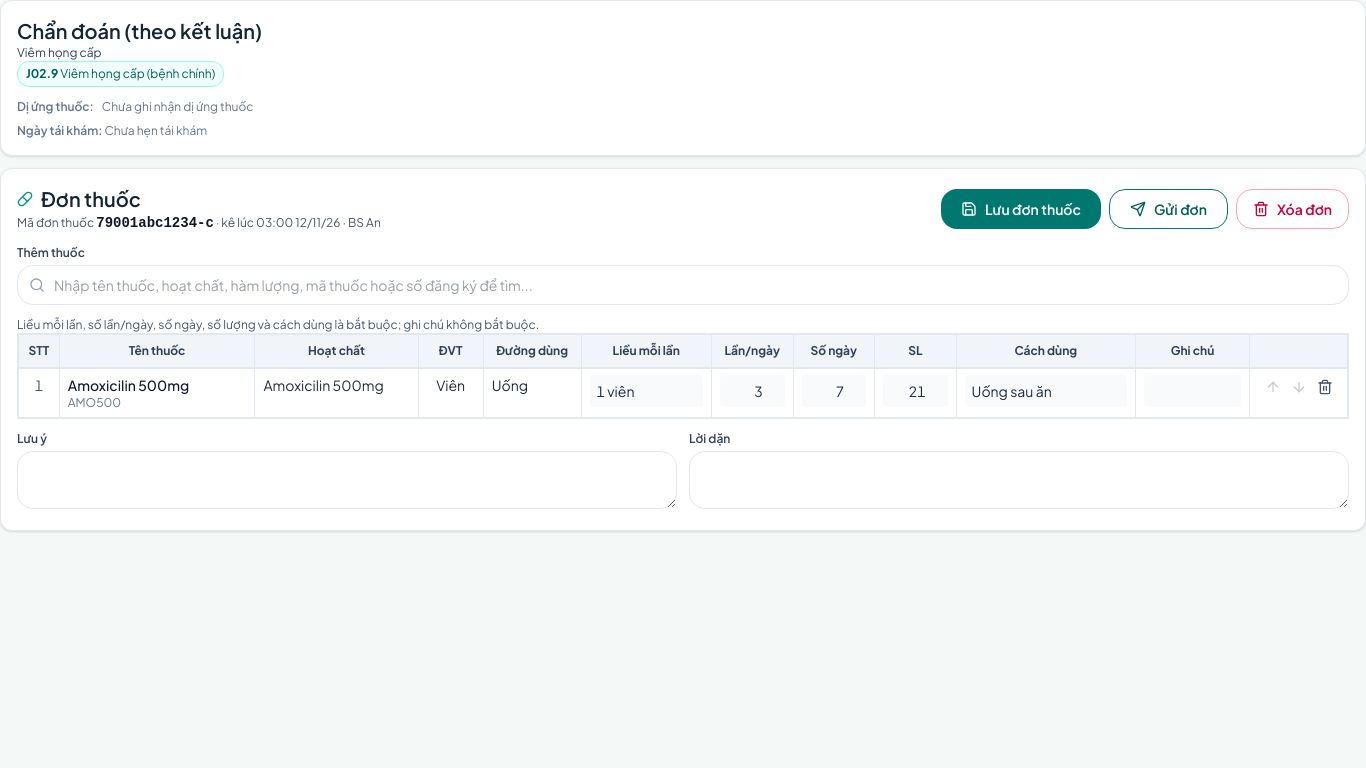
Test case: PrescriptionPanel (UC-90 Gửi đơn thuốc điện tử) › shows the password field when the server asks for a sign-in after the token ended
Click the button "Gửi đơn".
click(1168, 209)  # box [1109,189,1228,229]
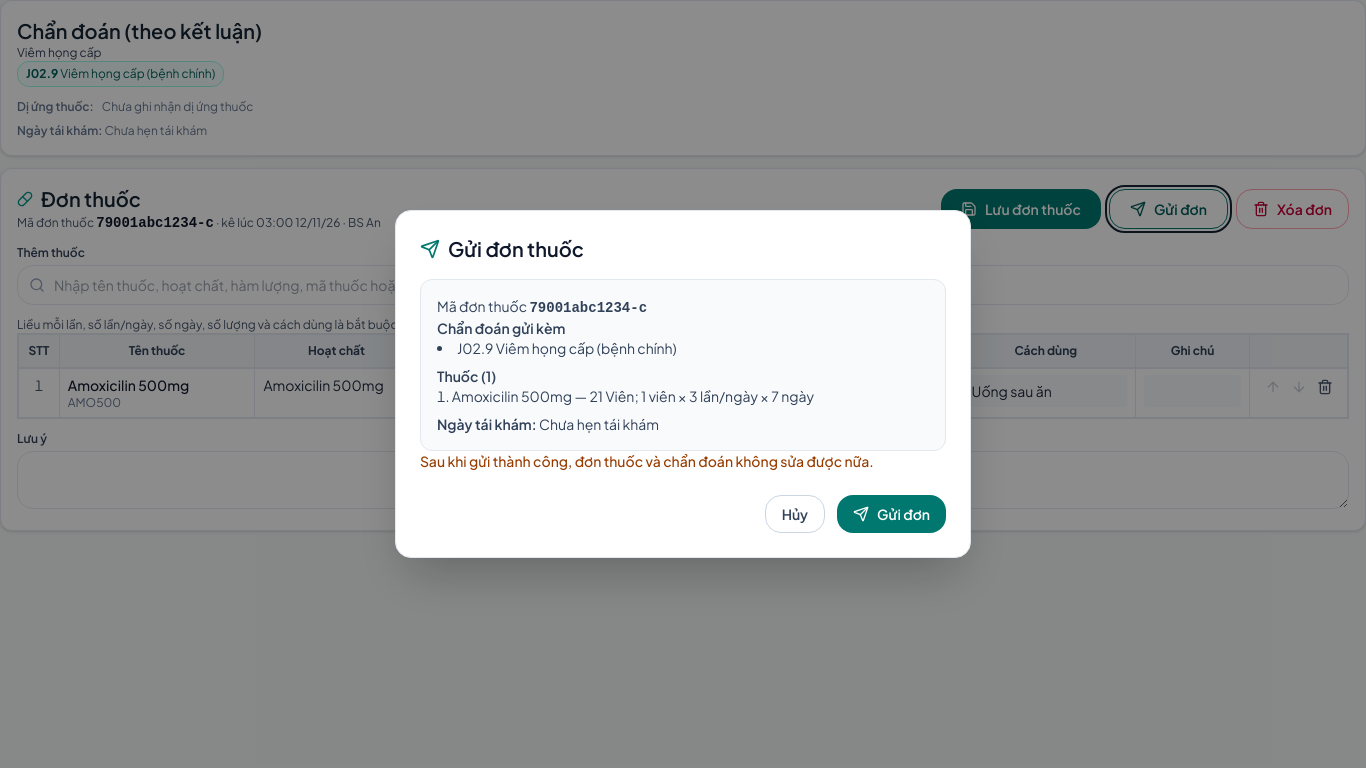
Check: the text "Sau khi gửi thành công, đơn thuốc và chẩn đoán không sửa được nữa." is shown, box [420,451,946,471]
Click the button "Gửi đơn".
click(892, 514)  # box [837,495,946,533]
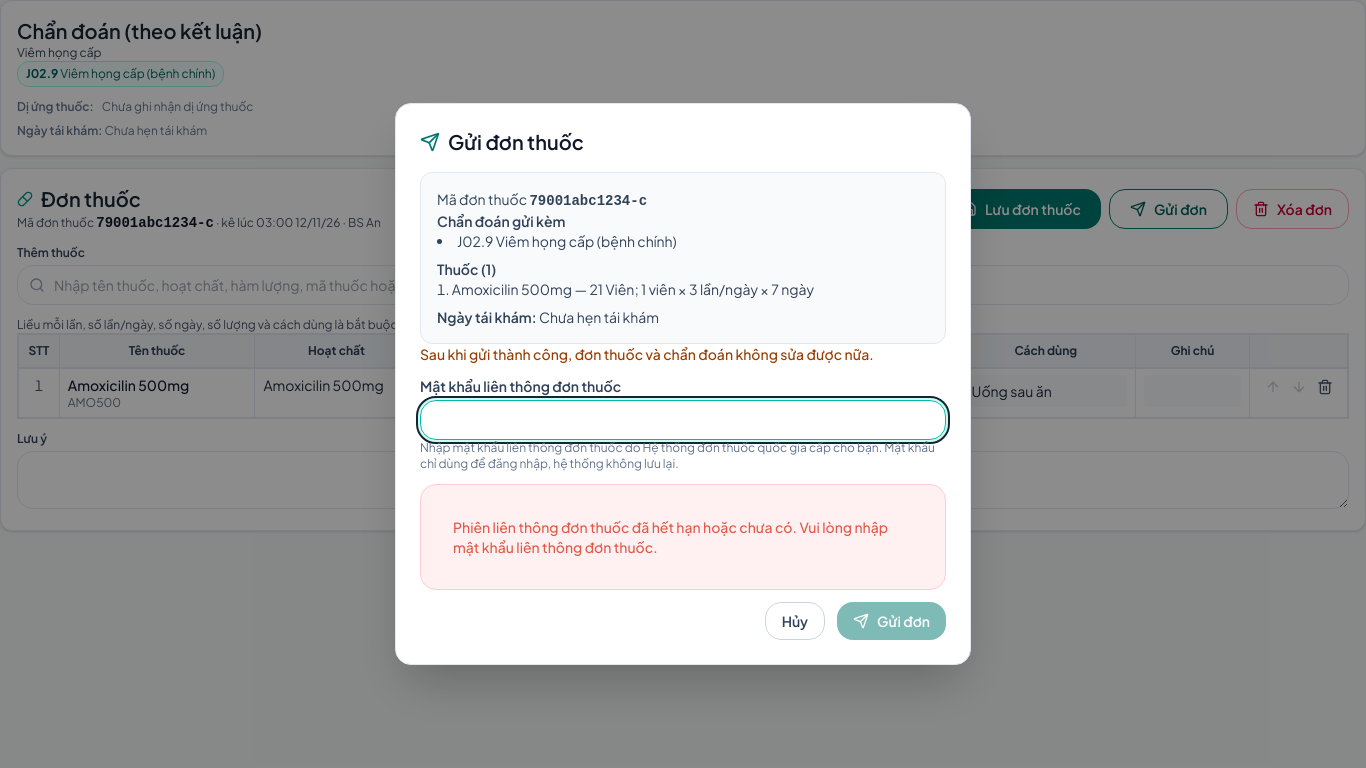
Check: the message shows "Phiên liên thông đơn thuốc đã hết hạn hoặc chưa có. Vui lòng nhập mật khẩu liên thông đơn thuốc.", box [453,518,888,556]
